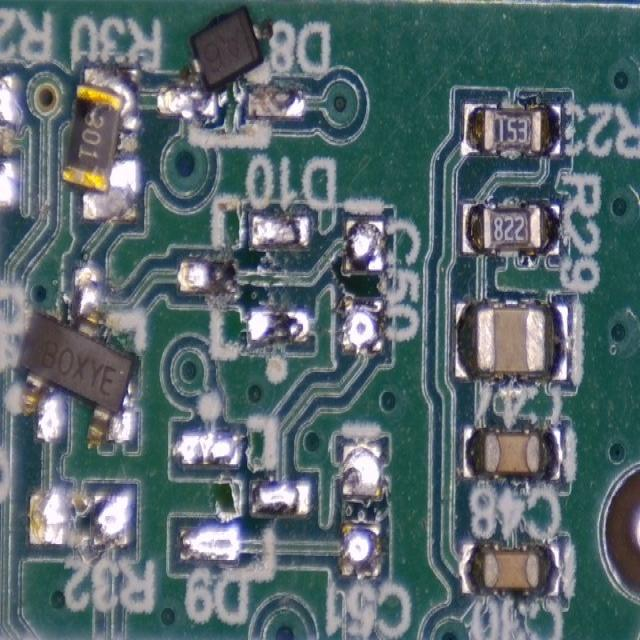Incorrect_installation: (16, 266, 136, 446), (158, 7, 273, 117), (59, 68, 140, 222)
